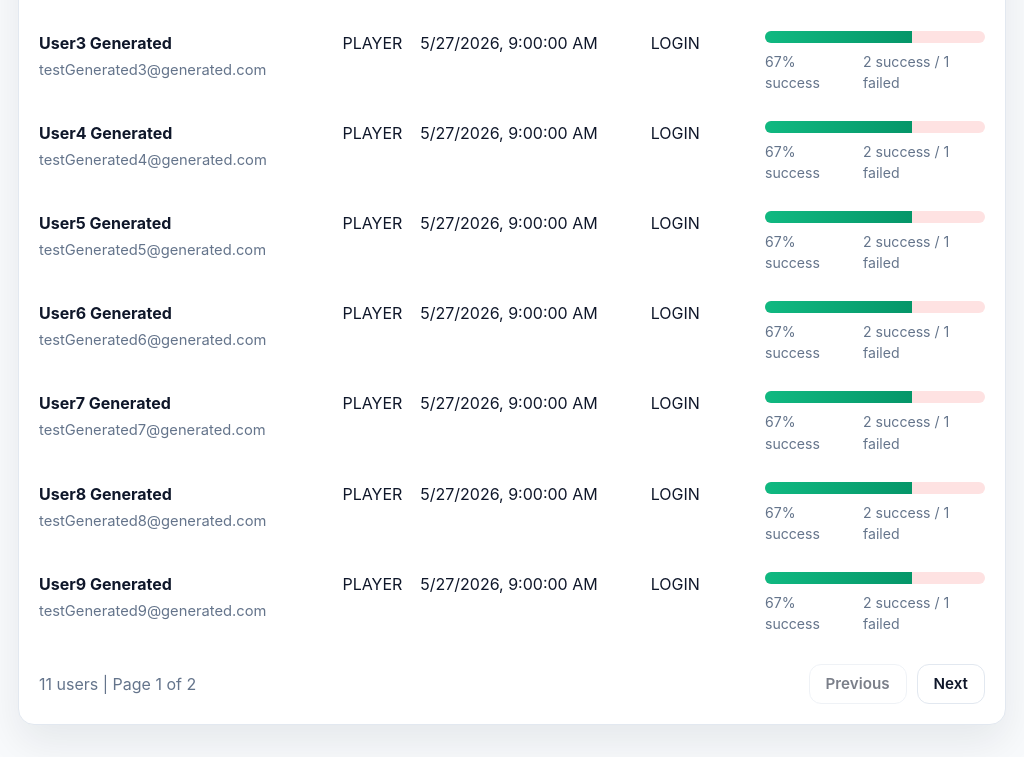
Test: UserActivityPage › supports pagination controls for user activity summaries
(page scrolled)
Expected: the text "User11 Generated" is not shown
Expected: the text "11 users | Page 1 of 2" is shown, [39,672,196,696]
Click the button "Next" at (951, 684), box [916,664,985,704]
(page scrolled)
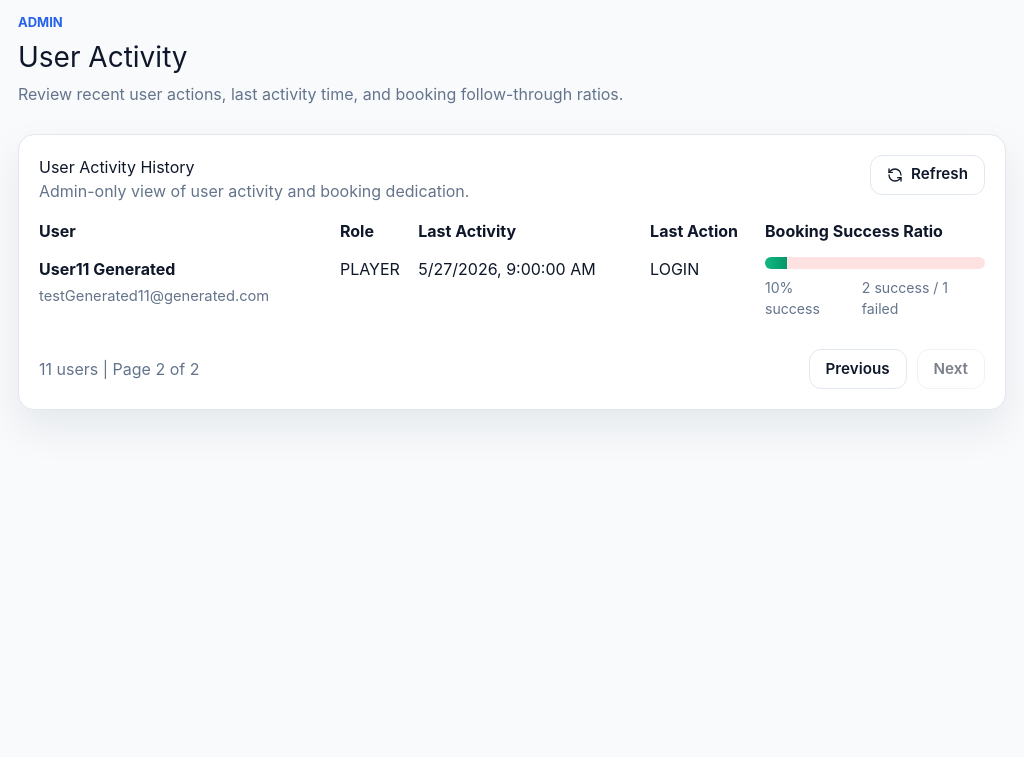
Now the text "User11 Generated" is shown, box [39,259,175,279]
Now the text "11 users | Page 2 of 2" is shown, box [39,357,199,381]
